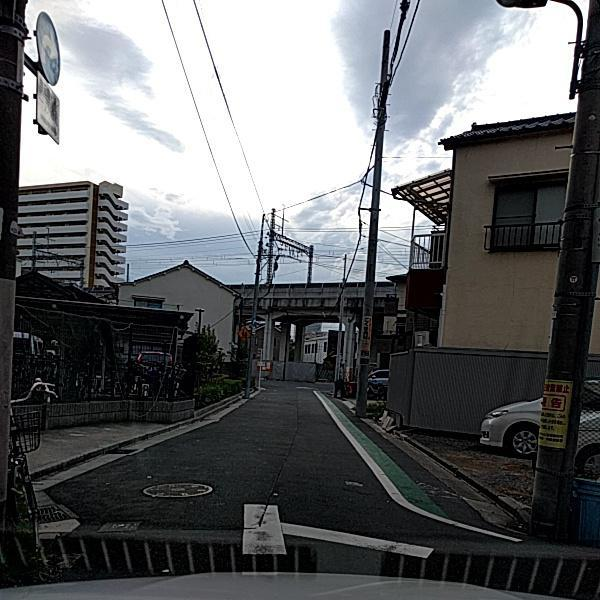D50: (142, 479, 212, 503)
